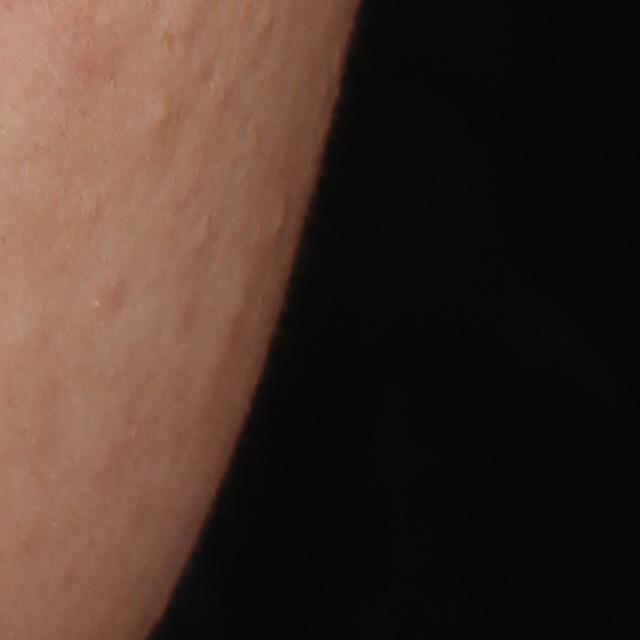comedo: (0, 314, 45, 364), (143, 87, 178, 132), (191, 220, 216, 253)
